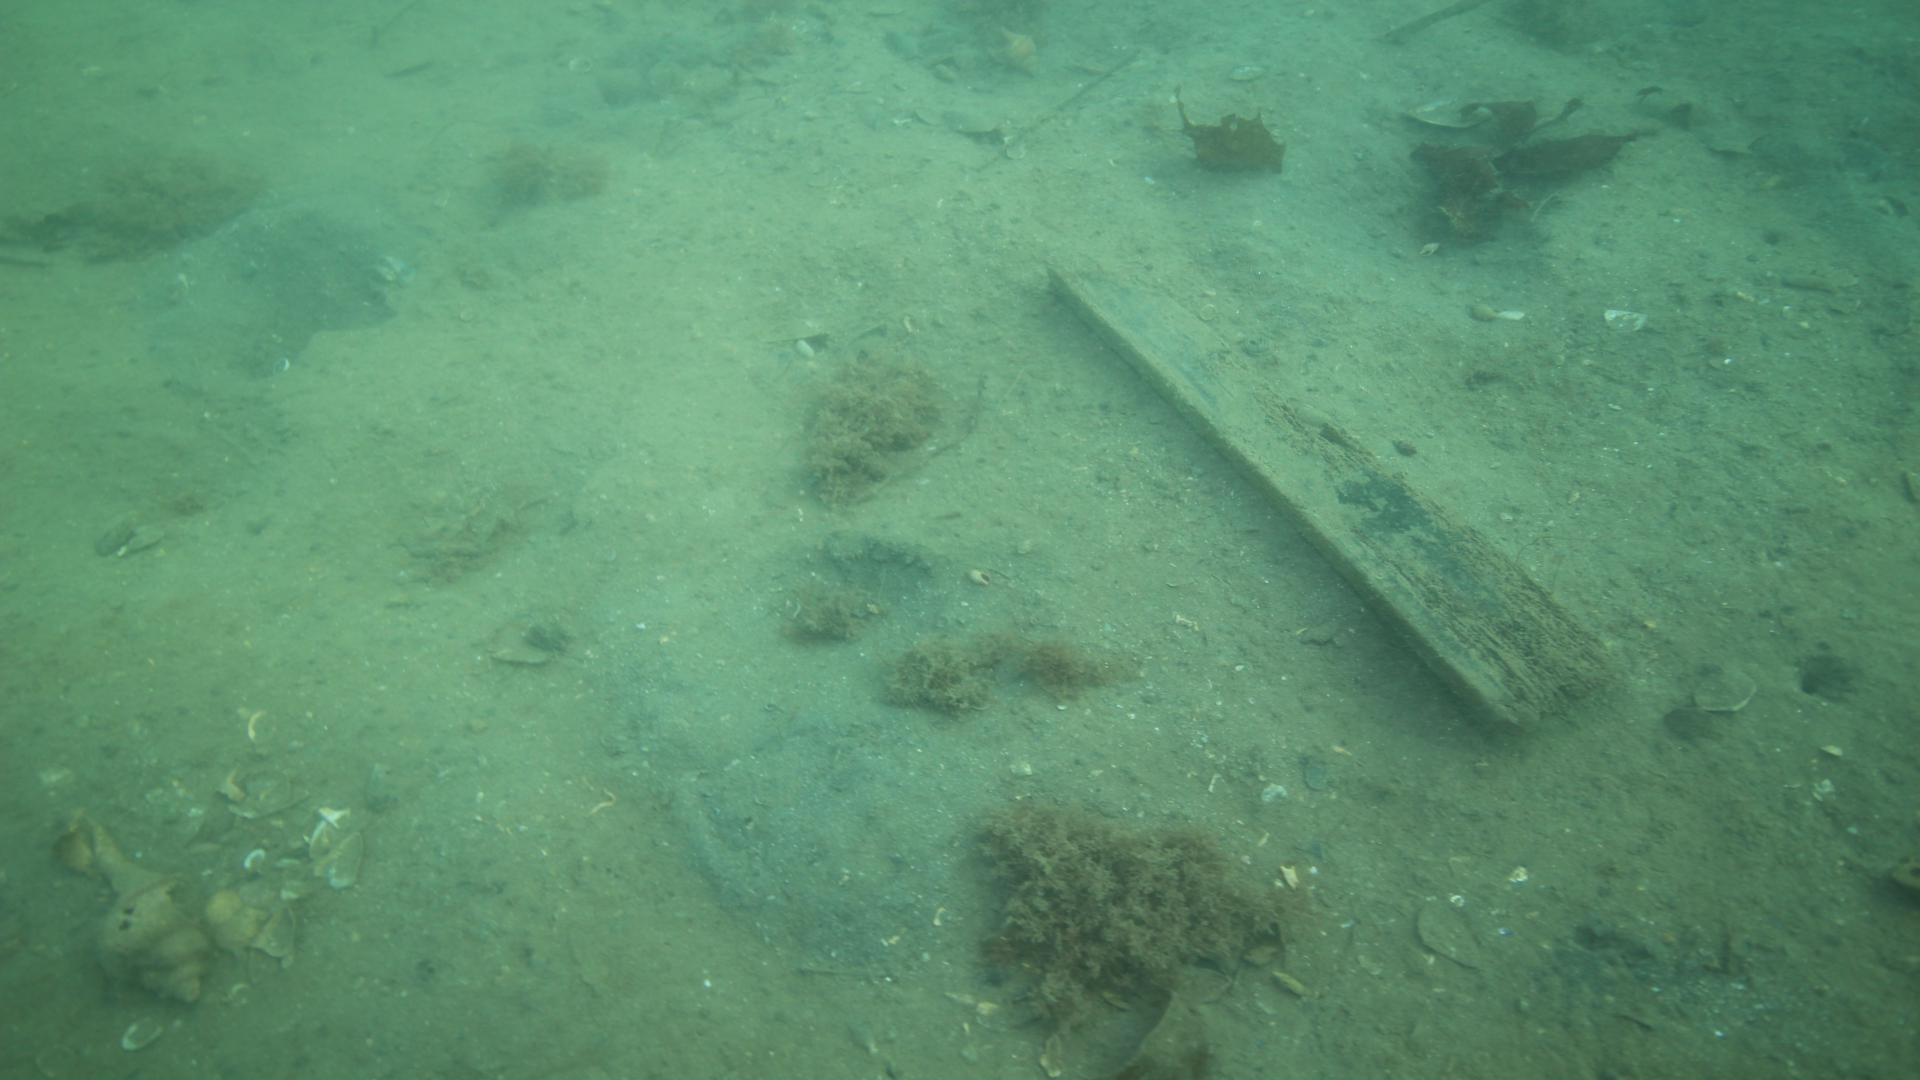wood: (1038, 251, 1615, 746)
